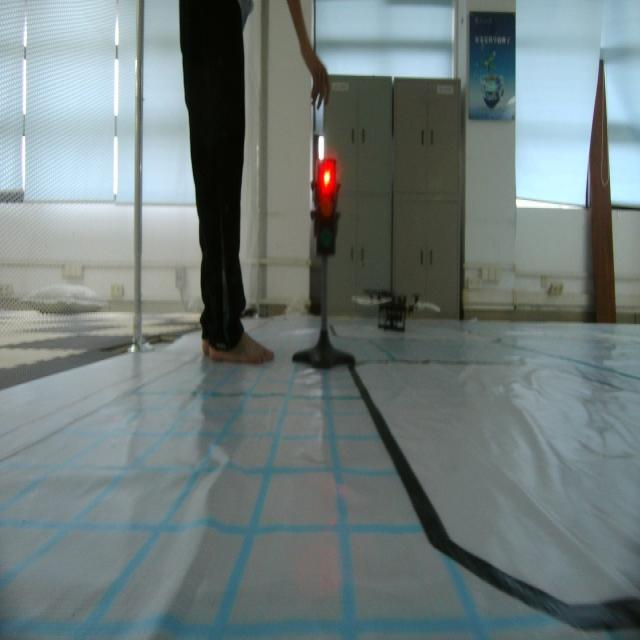red: (311, 153, 341, 260)
